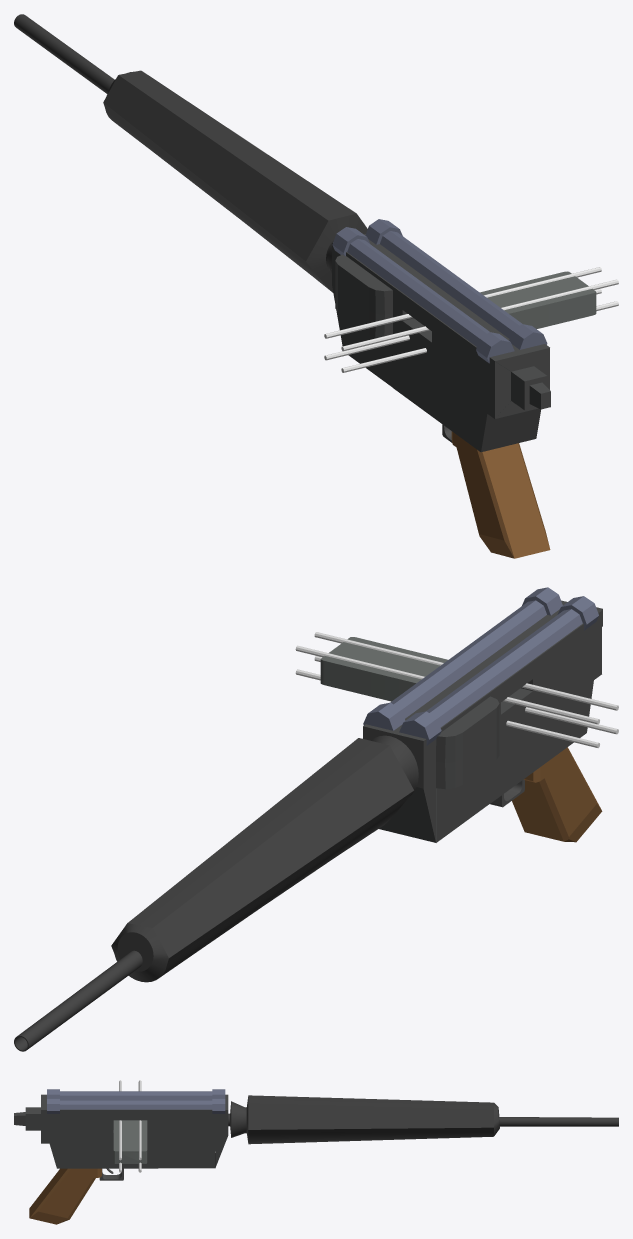
The model's file is Rifle.fbx.
3 renders of one model, top to bottom at view 1: azimuth 30°, elevation 25°; view 2: azimuth 150°, elevation 25°; view 3: azimuth 270°, elevation 25°, orthographic. The views are drawn at different scales.
Parts seen in each view (by area): view 1: Cube.005, Cylinder.002, Cylinder.004, Cube.004, Cube.006, Cylinder.003; view 2: Cylinder.002, Cube.005, Cylinder.004, Cube.004, Cube.006, Cylinder.003; view 3: Cylinder.002, Cube.005, Cylinder.004, Cube.004, Cube.006, Cylinder.003.
Part boxes in pixels (x1,y1,x2,y2): Cube.005: (332, 234, 550, 452); Cylinder.002: (14, 14, 367, 292); Cylinder.004: (332, 219, 547, 363); Cube.004: (451, 431, 550, 558); Cube.006: (480, 271, 596, 328); Cylinder.003: (324, 267, 618, 372); Cylinder.002: (14, 735, 418, 1051); Cube.005: (363, 600, 602, 842); Cylinder.004: (363, 587, 598, 745); Cube.004: (512, 747, 602, 842); Cube.006: (320, 637, 447, 701); Cylinder.003: (295, 632, 618, 748); Cylinder.002: (228, 1095, 618, 1144); Cube.005: (14, 1094, 228, 1168); Cylinder.004: (47, 1089, 225, 1113); Cube.004: (29, 1168, 101, 1224); Cube.006: (113, 1120, 147, 1163); Cylinder.003: (119, 1080, 141, 1172).
Bounding box in the file's own units: 6.58 × 1.99 × 1.51.
